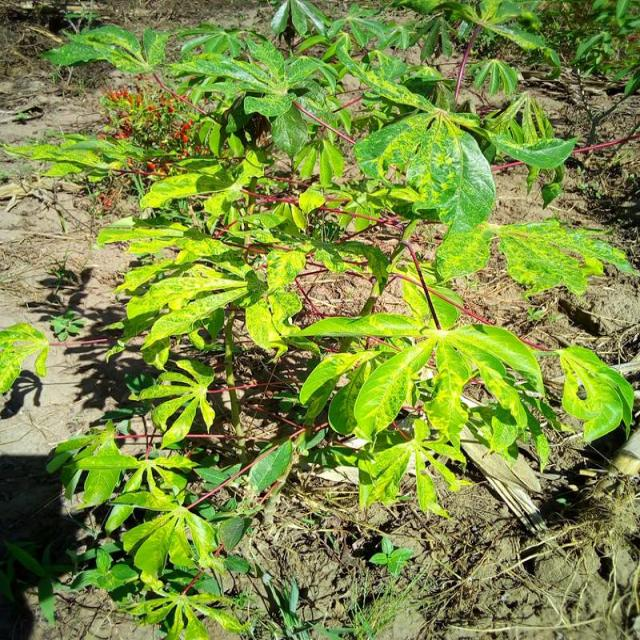cassava leaf: (557, 344, 634, 450)
